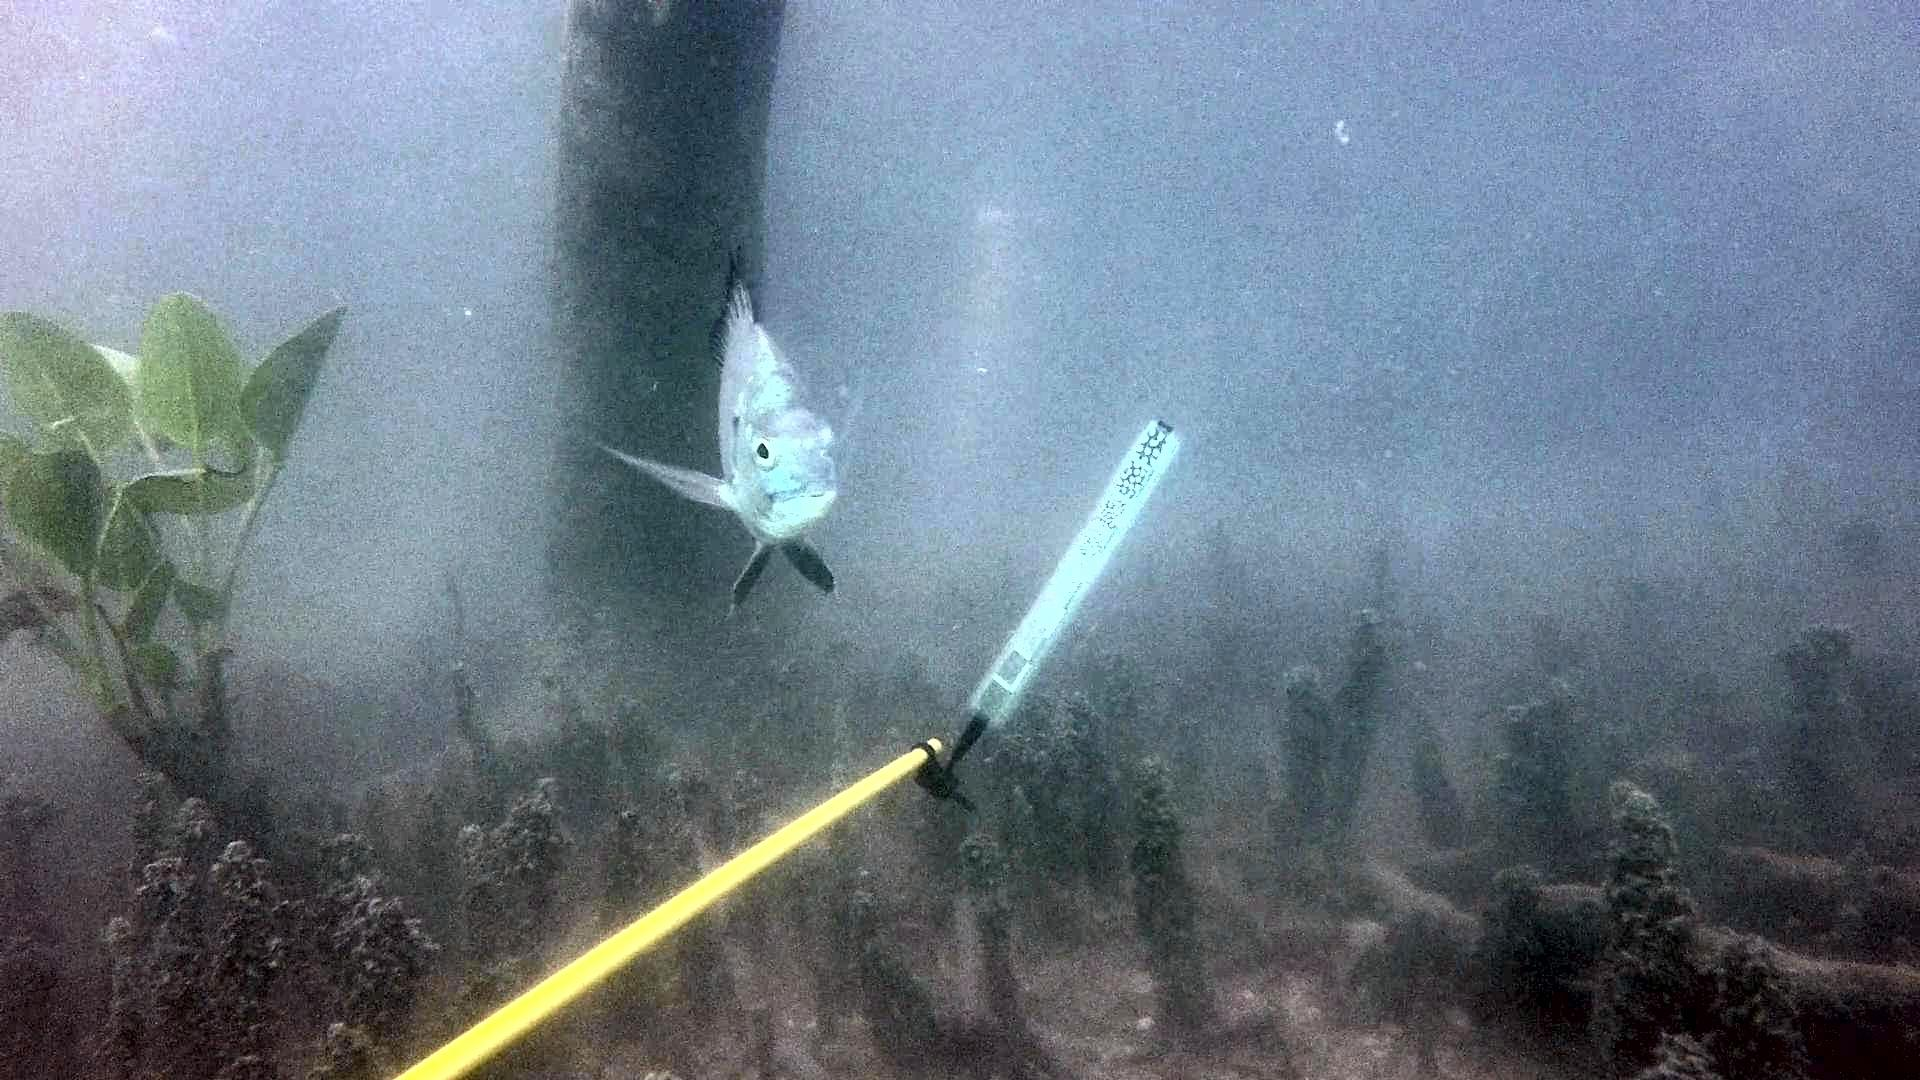acanthopagrus palmaris: (560, 231, 898, 618)
